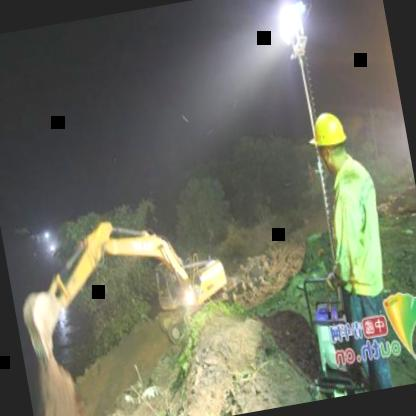helmet: (306, 104, 354, 173)
